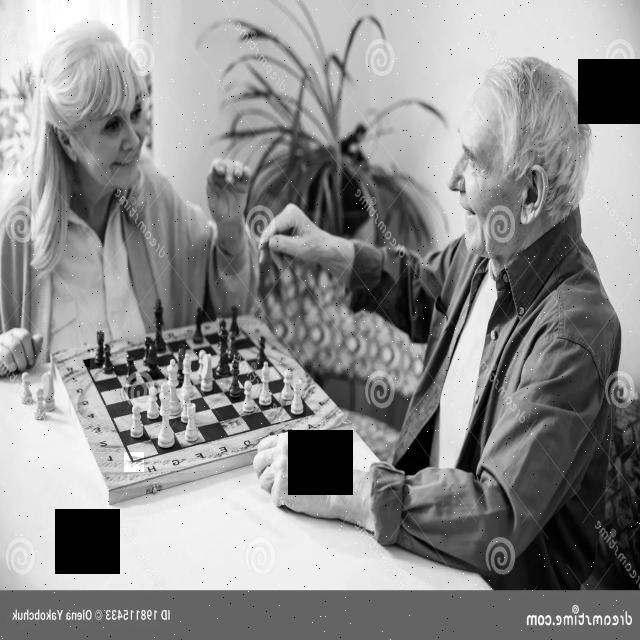chess-table-corners: (124, 452, 144, 472), (306, 405, 325, 424), (76, 350, 90, 367), (237, 320, 249, 334)
